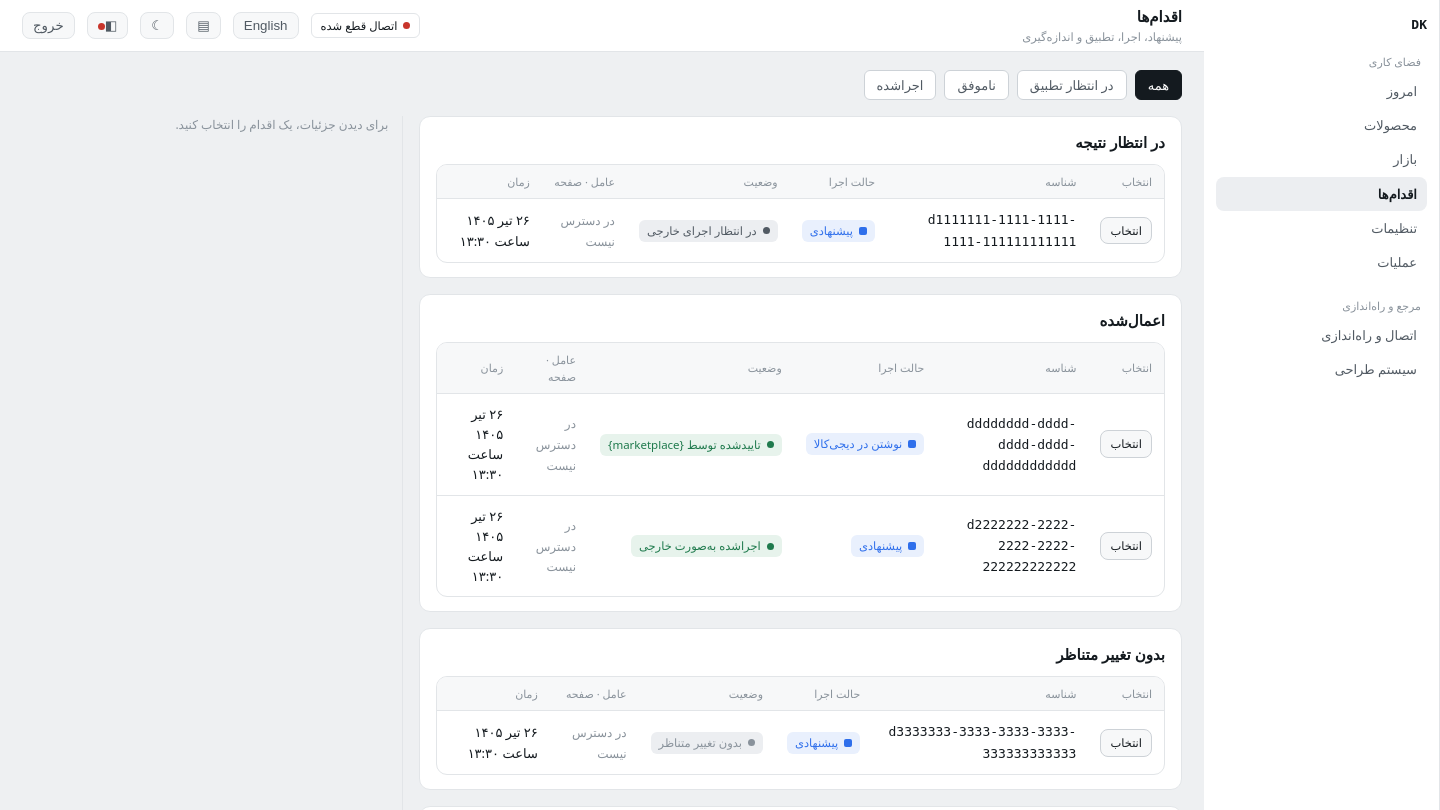
Test: Actions — multi-mode queue discovery (issue #106) › shows an awaiting recommend-only action as not-yet-written, with no retry
Click the button "انتخاب" next to "d1111111-1111-1111-1111-111111111111".
click(1126, 231)  # box [1100, 217, 1152, 244]
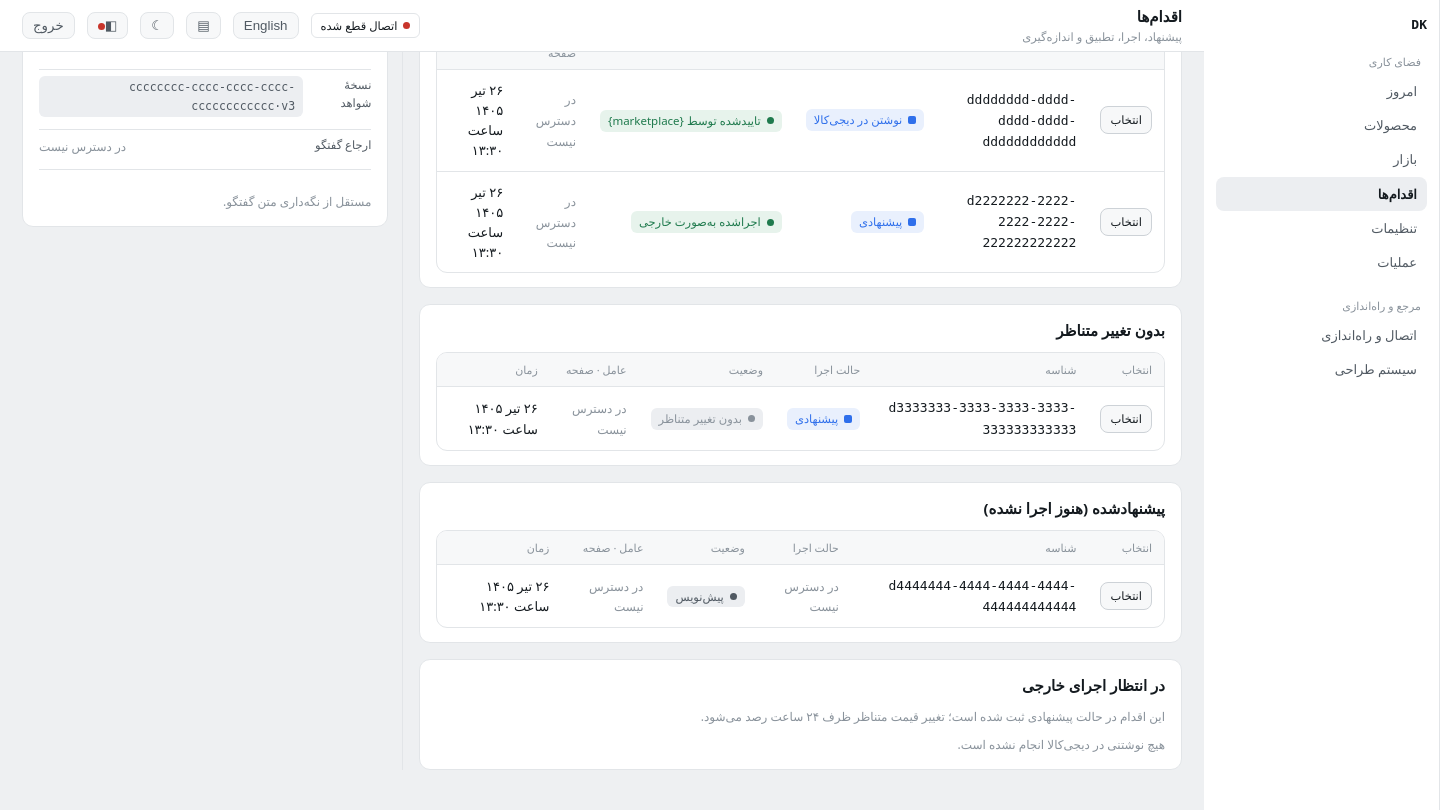
Now the element with test id "action-awaiting-external" shows "هیچ نوشتنی در دیجی‌کالا انجام نشده است.", box [957, 736, 1165, 753]
